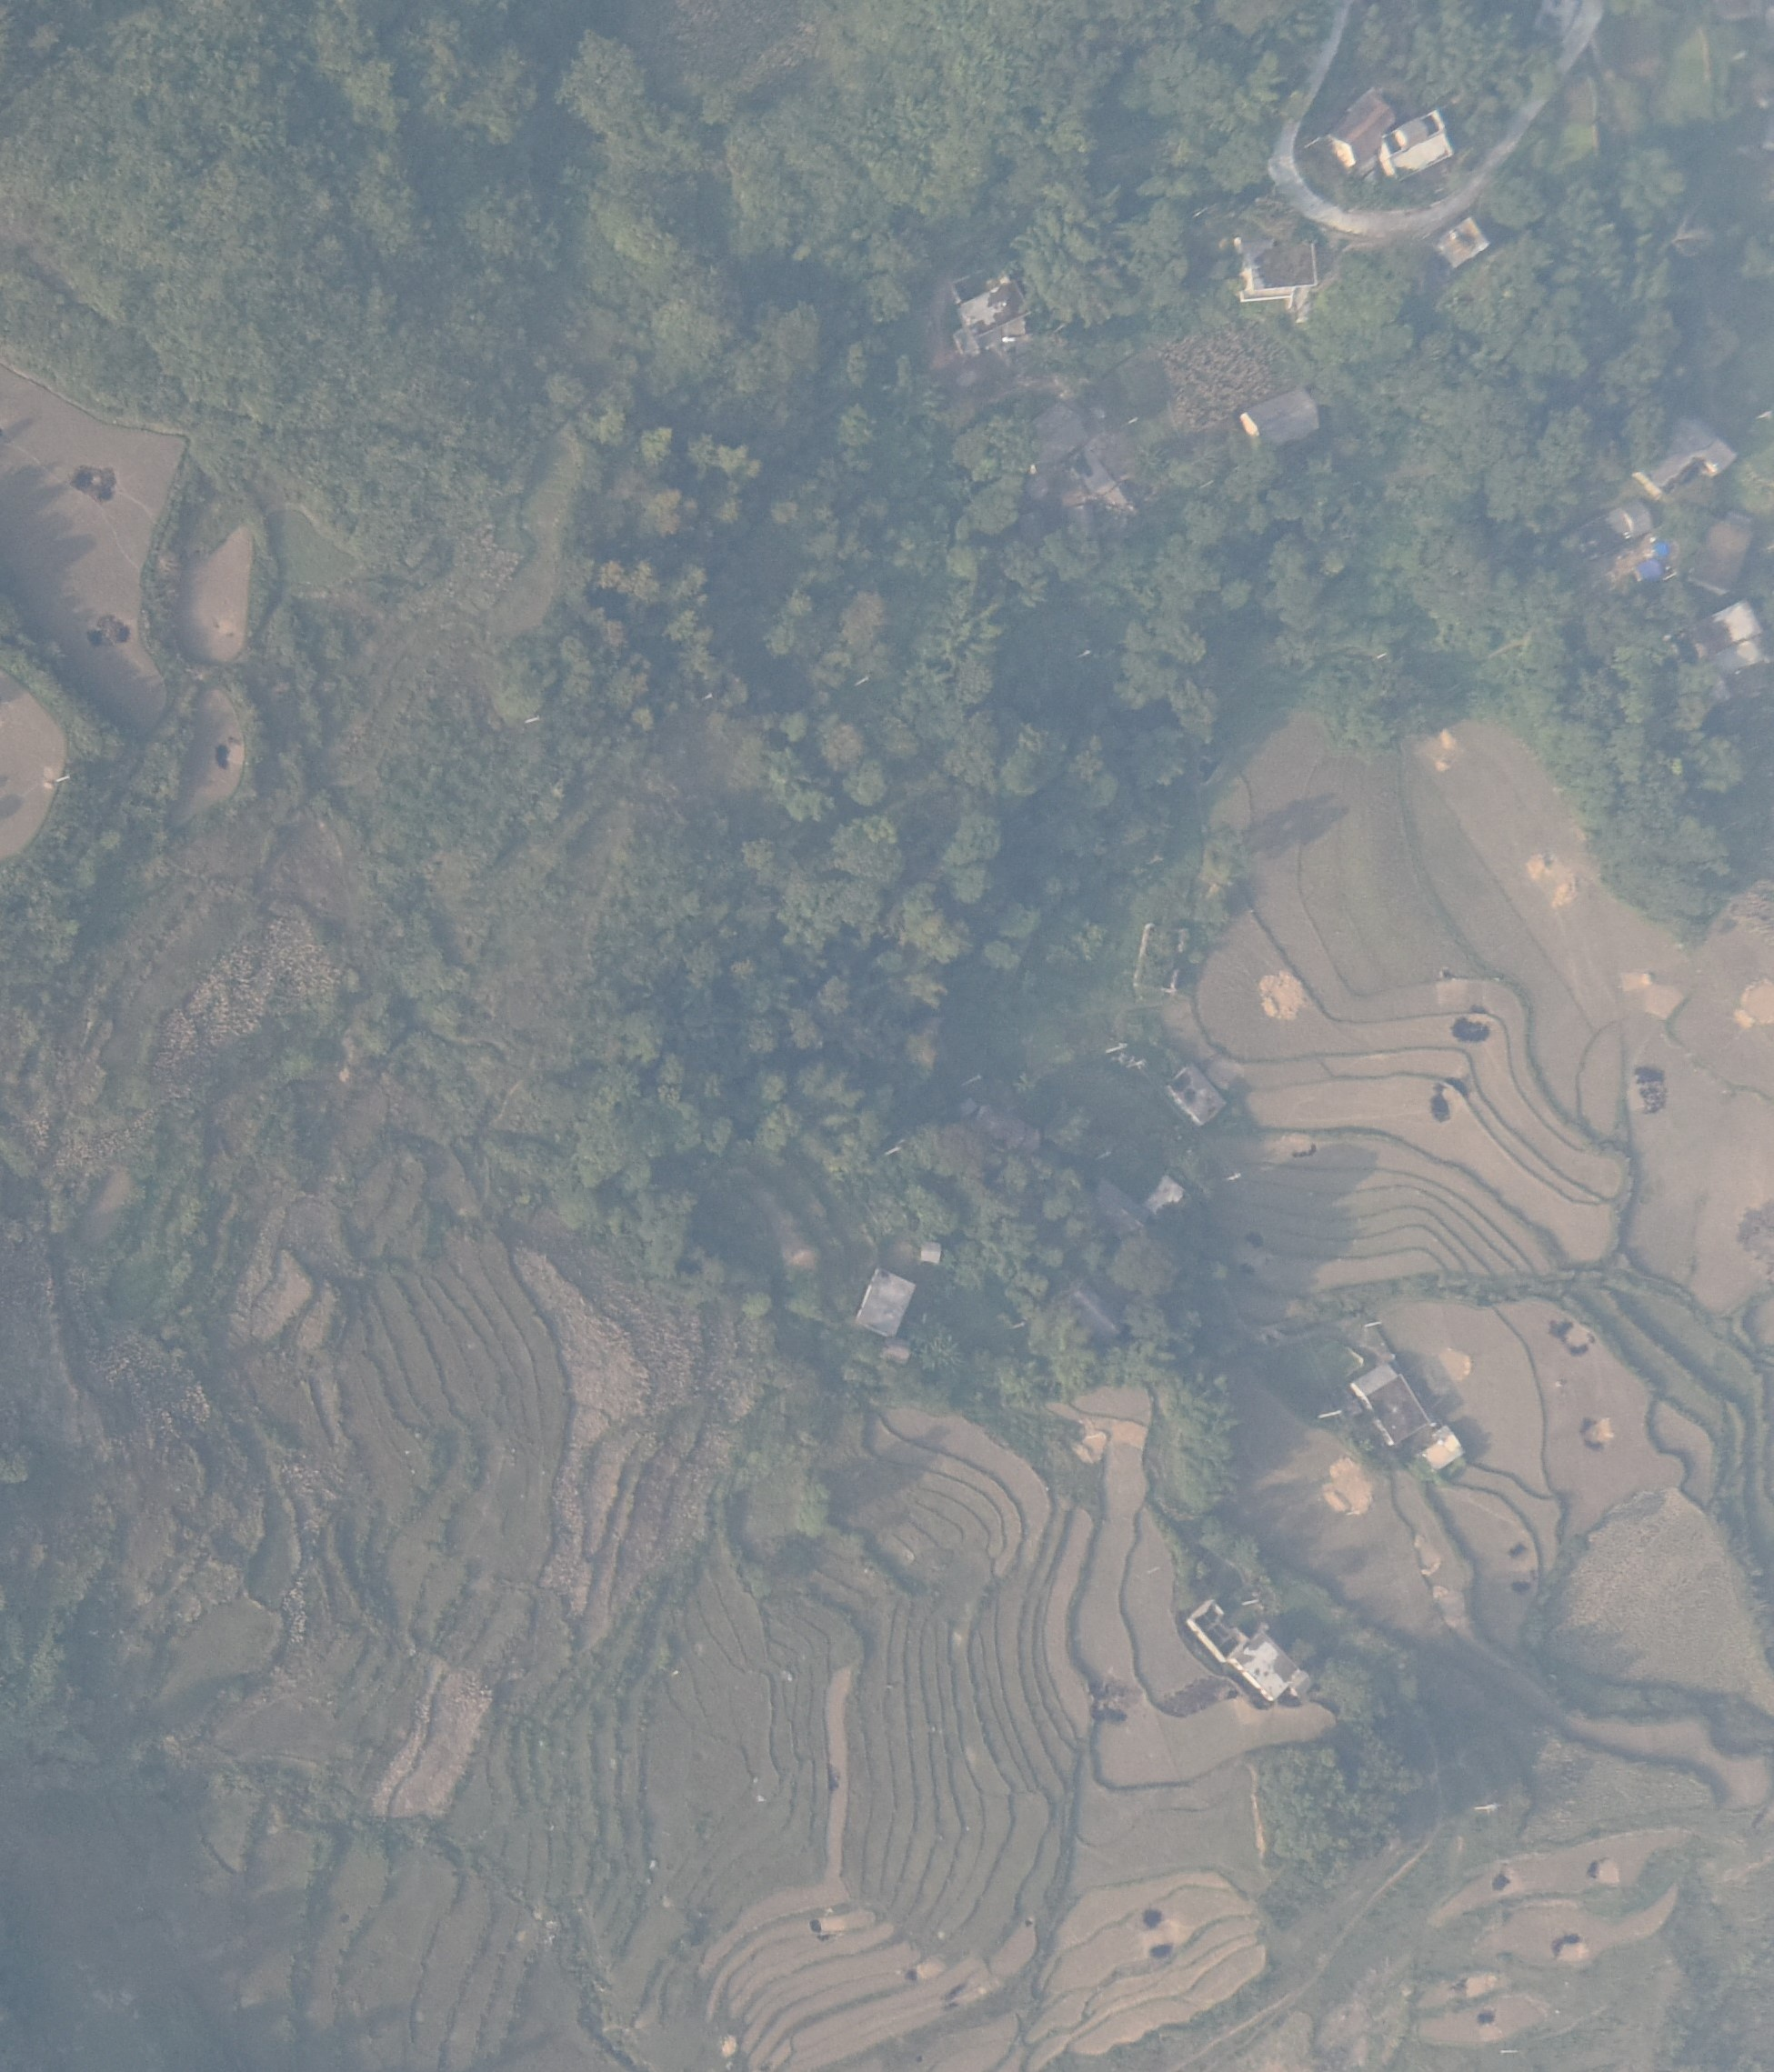building: (1628, 417, 1740, 495), (1350, 1365, 1436, 1454), (1317, 89, 1402, 176), (1371, 108, 1456, 182), (1237, 386, 1330, 451), (1230, 1629, 1308, 1704), (958, 279, 1042, 343), (1018, 401, 1093, 471), (1690, 511, 1749, 599), (857, 1265, 916, 1344), (1246, 237, 1329, 293), (1181, 1598, 1250, 1664), (1062, 1282, 1127, 1351), (1163, 1063, 1229, 1129), (1689, 601, 1762, 658), (1437, 215, 1489, 271)
prefabricated-house: (1633, 558, 1664, 581)
